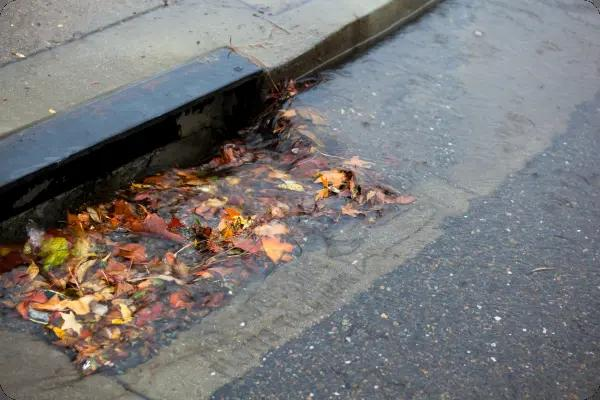Blocked drain: (4, 47, 491, 400)
